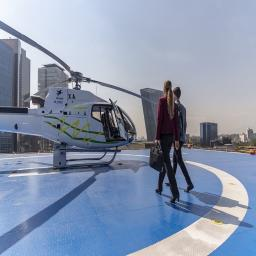helicopter: (1, 21, 159, 174)
